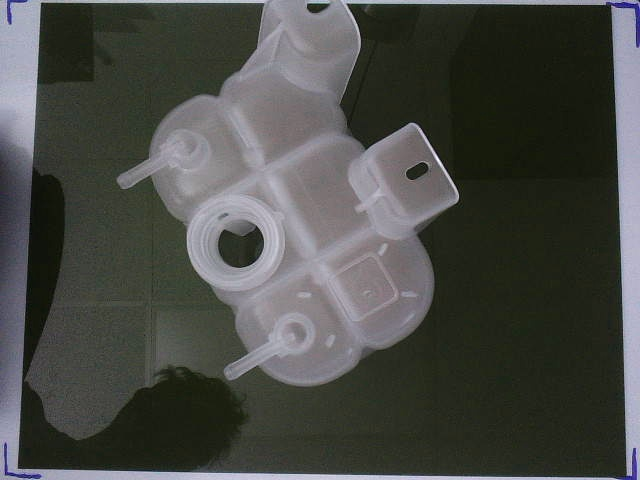reservoir_transparent_Top: (116, 1, 460, 387)
